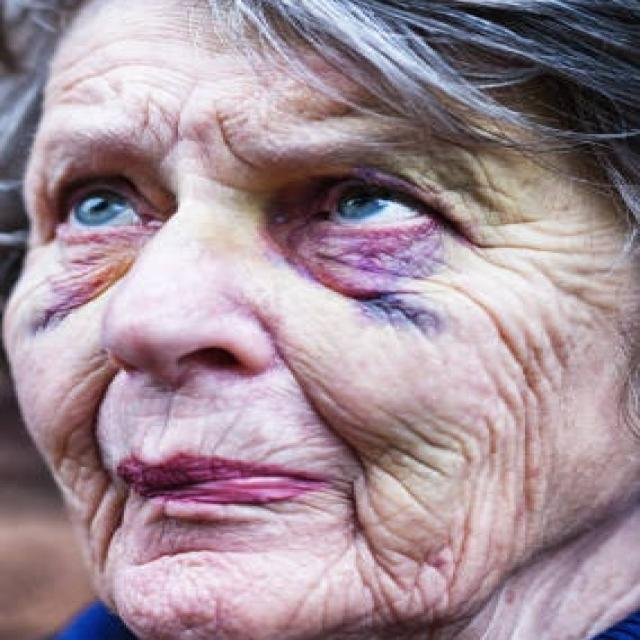Anxiety: (0, 0, 633, 638)
